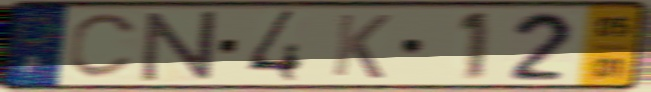1: (455, 10, 496, 82)
2: (500, 7, 582, 86)
4: (243, 8, 309, 85)
C: (65, 11, 144, 82)
K: (328, 11, 395, 81)
N: (140, 8, 220, 85)
